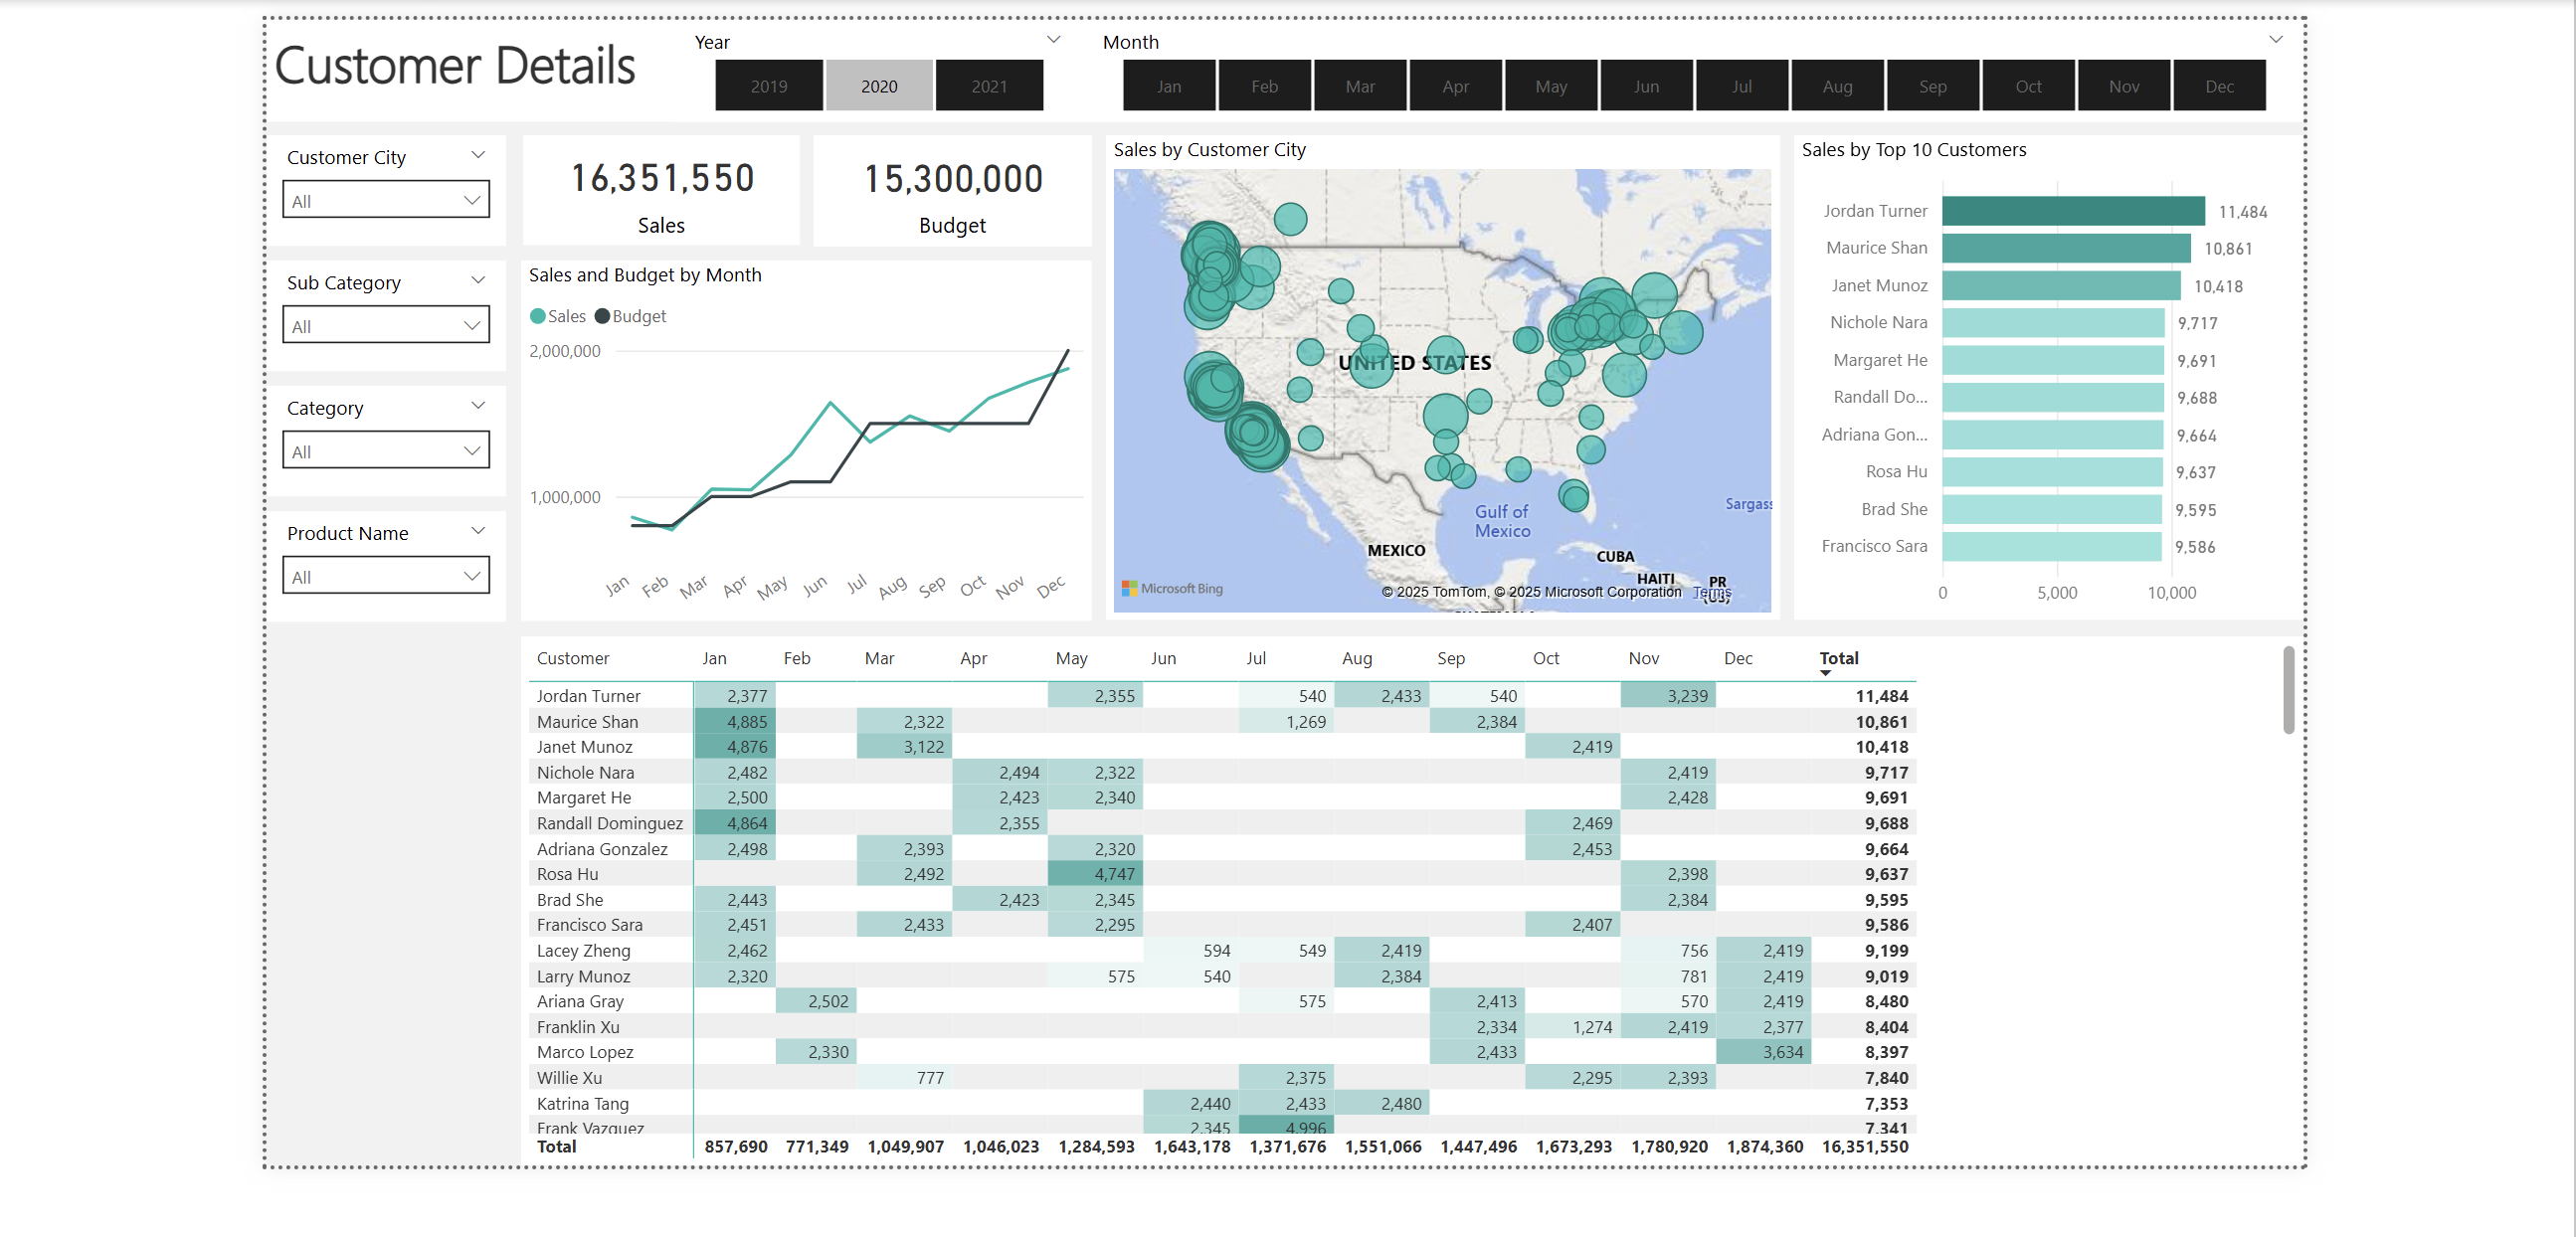

The dashboard page shown, as its layout file describes it:
{"tool":"powerbi","page":{"name":"Customer Details","canvas":[1280,720],"ordinal":1},"visuals":[{"type":"textbox","box":[0,0,1280,64],"z":0},{"type":"slicer","fields":{"Values":["DIM_Calendar.Year"]},"box":[256,0,256,64],"z":1000},{"type":"slicer","fields":{"Values":["DIM_Calendar.MonthShort"]},"box":[512,0,768,64],"z":2000},{"type":"slicer","fields":{"Values":["DIM_Customers.Customer City"]},"box":[0,73,150.5,69.3],"z":3000},{"type":"slicer","fields":{"Values":["DIM_Products.Product Category"]},"box":[0,229.9,150.5,69.3],"z":4000},{"type":"slicer","fields":{"Values":["DIM_Products.Product Name"]},"box":[0,308.4,150.5,69.3],"z":5000},{"type":"slicer","fields":{"Values":["DIM_Products.Sub Category"]},"box":[0,151.4,150.5,69.3],"z":6000},{"type":"lineChart","fields":{"Category":["DIM_Calendar.MonthShort"],"Y":["Analysis Metrics.Sales","Analysis Metrics.Budget"]},"box":[159.8,151.8,358.7,226.4],"z":7000},{"type":"card","fields":{"Values":["Analysis Metrics.Sales"]},"box":[160.7,72.8,174,69.2],"z":8000},{"type":"map","fields":{"Category":["DIM_Customers.Customer City"],"Size":["Analysis Metrics.Sales"]},"box":[527.3,72.8,423.5,304.5],"z":9000},{"type":"card","fields":{"Values":["Analysis Metrics.Budget"]},"box":[343.6,72.8,174.9,70.1],"z":10000},{"type":"pivotTable","fields":{"Rows":["DIM_Customers.Full Name"],"Columns":["DIM_Calendar.MonthShort"],"Values":["Analysis Metrics.Sales"]},"box":[159.8,387.1,1120.4,332.9],"z":11000},{"type":"barChart","title":"Sales by Top 10 Customers","fields":{"Category":["DIM_Customers.Full Name"],"Y":["Analysis Metrics.Sales"]},"box":[959.7,72.8,320.5,304.5],"z":12000}]}

Visuals, with their boxes on the page's 1280x720 design canvas (x1, y1, x2, y2). These are canvas units, not pixel positions in the 2576x1237 screenshot, which may show the page scaled, cropped or inside an application window:
textbox: [0, 0, 1280, 64]
slicer - DIM_Calendar.Year: [256, 0, 512, 64]
slicer - DIM_Calendar.MonthShort: [512, 0, 1280, 64]
slicer - DIM_Customers.Customer City: [0, 73, 150, 142]
slicer - DIM_Products.Product Category: [0, 230, 150, 299]
slicer - DIM_Products.Product Name: [0, 308, 150, 378]
slicer - DIM_Products.Sub Category: [0, 151, 150, 221]
lineChart - DIM_Calendar.MonthShort x Analysis Metrics.Sales: [160, 152, 518, 378]
card - Analysis Metrics.Sales: [161, 73, 335, 142]
map - DIM_Customers.Customer City x Analysis Metrics.Sales: [527, 73, 951, 377]
card - Analysis Metrics.Budget: [344, 73, 518, 143]
pivotTable - DIM_Customers.Full Name x DIM_Calendar.MonthShort: [160, 387, 1280, 720]
"Sales by Top 10 Customers" barChart: [960, 73, 1280, 377]
